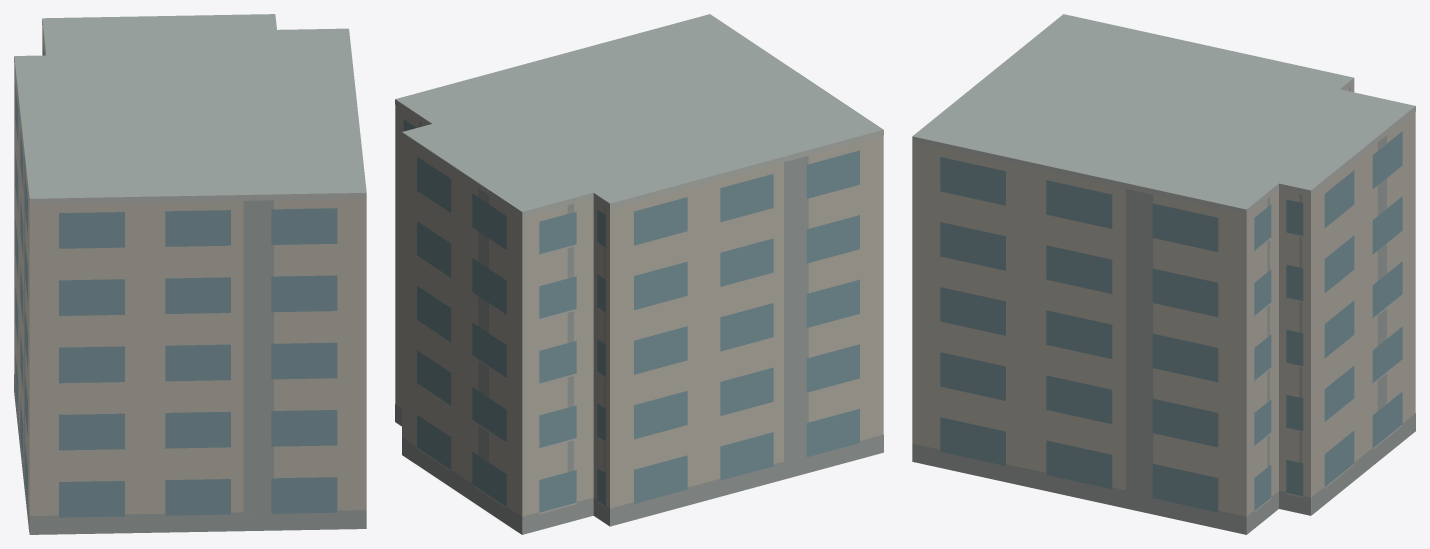
The model's file is survey-upis-33017713.glb.
3 views of the same model, side by side, from view 1: azimuth 30°, elevation 25°; view 2: azimuth 150°, elevation 25°; view 3: azimuth 270°, elevation 25° (orthographic). The views are drawn at different scales.
Visible parts, largest first — view 1: survey-upis-33017713.tmp; view 2: survey-upis-33017713.tmp; view 3: survey-upis-33017713.tmp.
Part boxes in pixels (box(x1,y1,x2,y2)): survey-upis-33017713.tmp: box(14, 14, 366, 534); survey-upis-33017713.tmp: box(395, 14, 883, 534); survey-upis-33017713.tmp: box(912, 14, 1415, 534).
Bounding box in the file's own units: 17.93 × 13.9 × 19.5.
